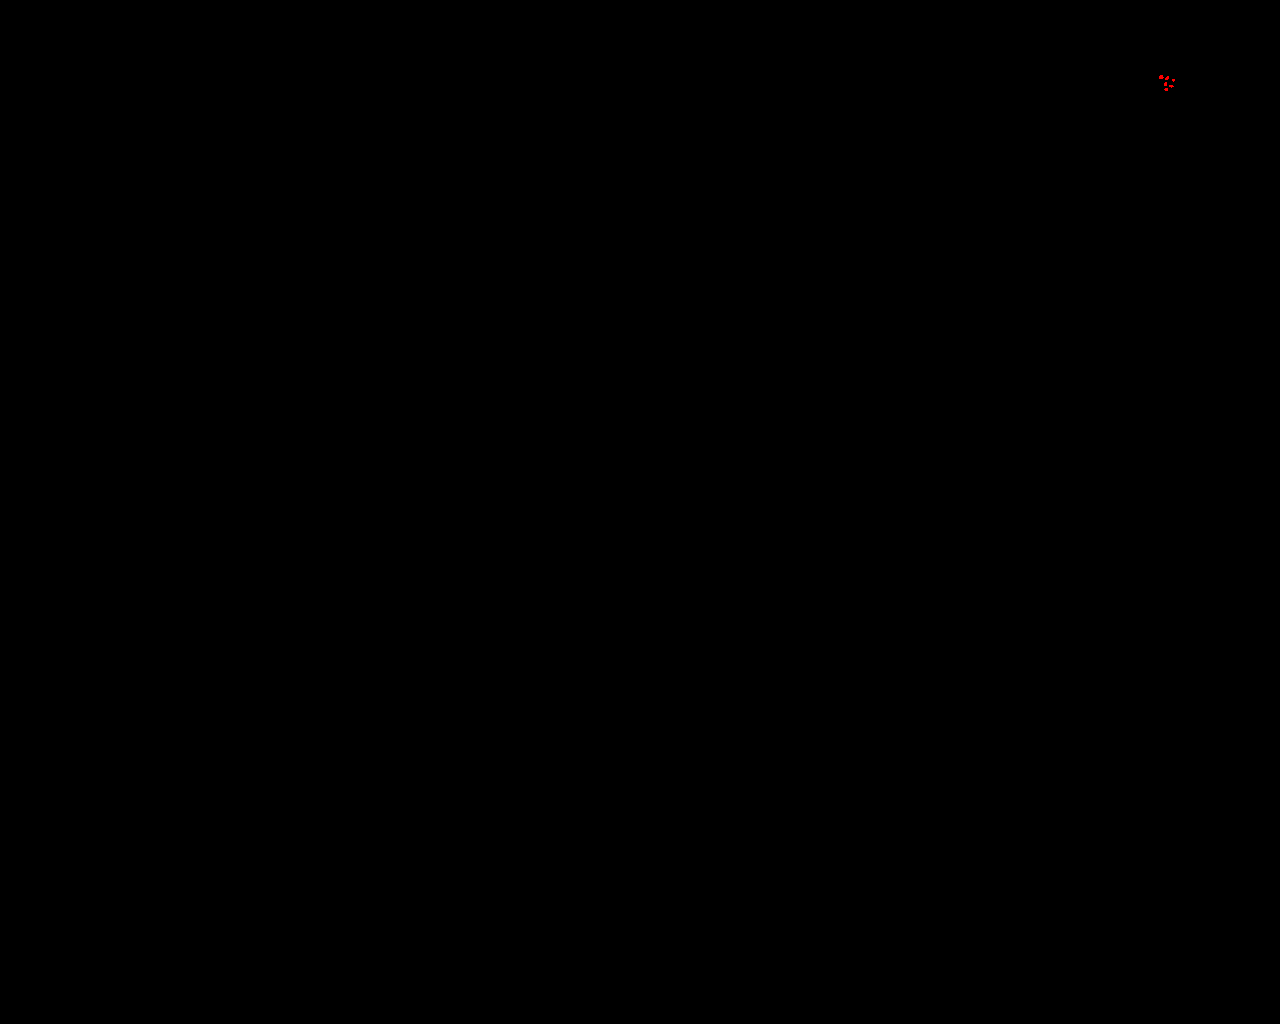Target: (1159, 75, 1164, 79), (1165, 76, 1169, 80), (1169, 85, 1174, 88), (1164, 82, 1167, 86), (1164, 88, 1168, 91), (1172, 79, 1176, 82)
